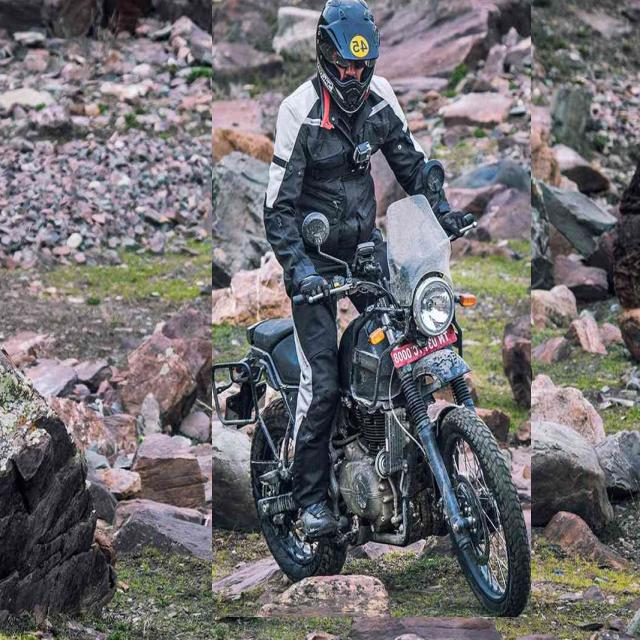motorcycle: (212, 0, 531, 617)
